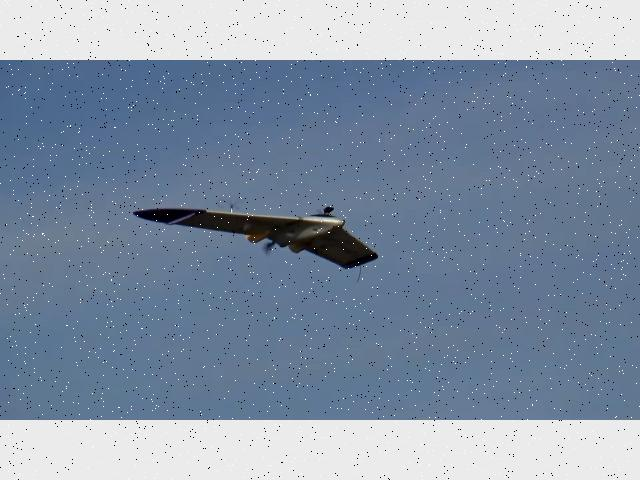Anti-Drone: (132, 206, 378, 269)
